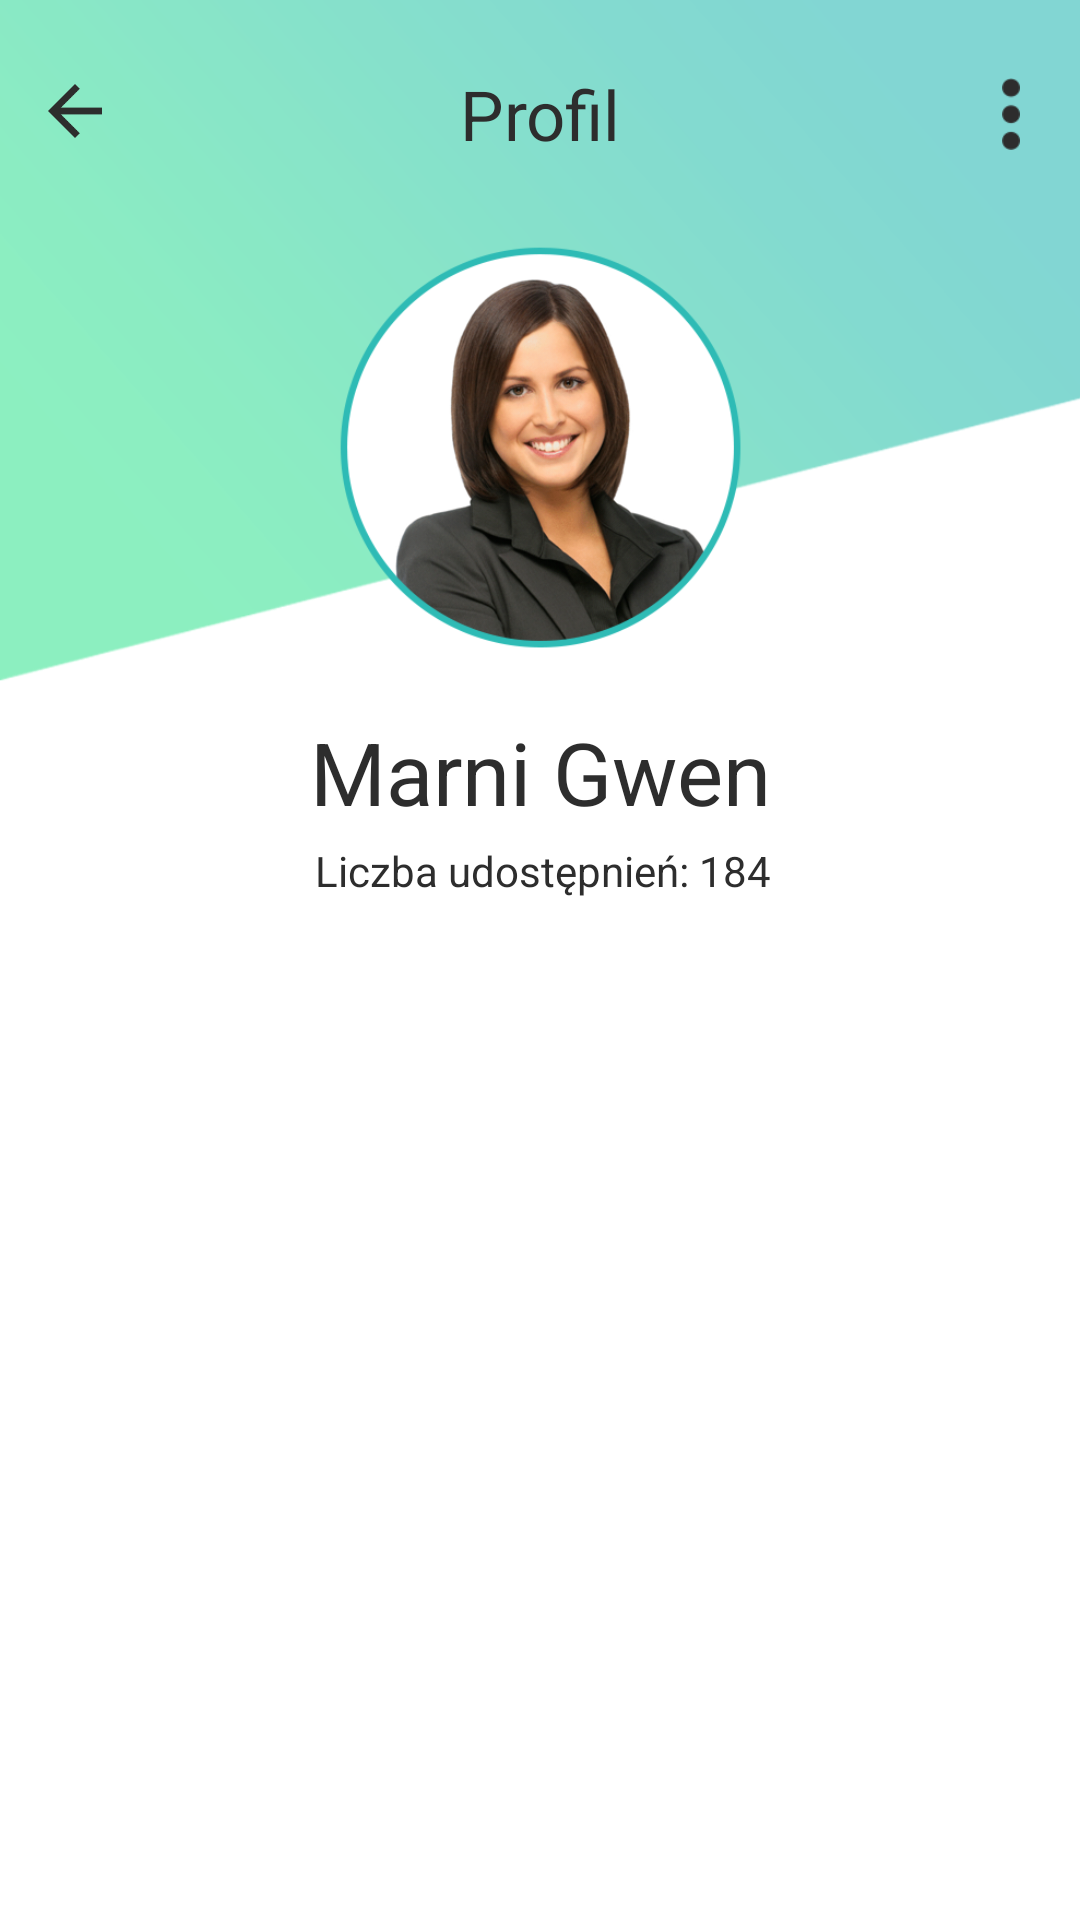

Named icons in this screenshot (1080*1920) and their bounding boxes, detection(x1, y1, x2, y2):
arrow back kopia: detection(48, 84, 102, 138)
more: detection(1002, 78, 1020, 150)
